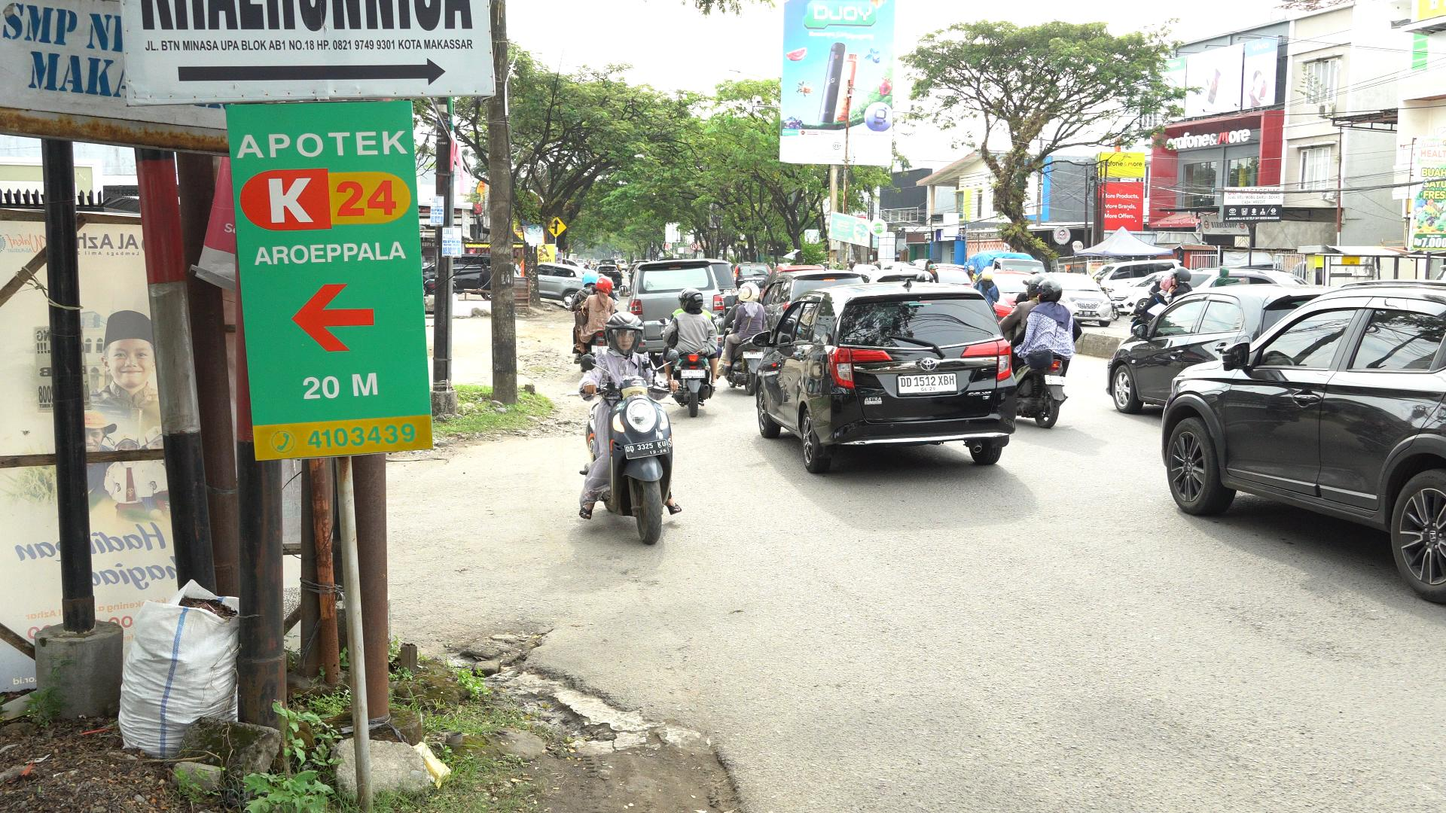number-plate: (624, 438, 676, 461)
